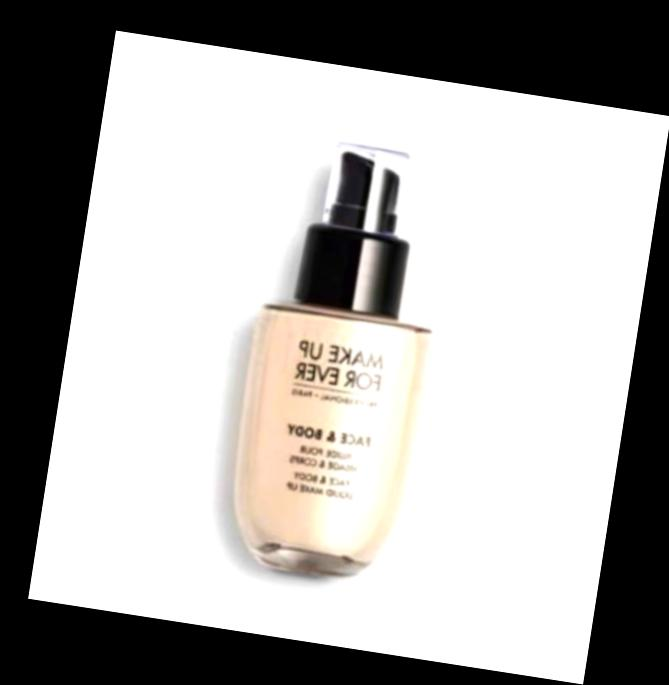cosmetic: (216, 131, 460, 590)
